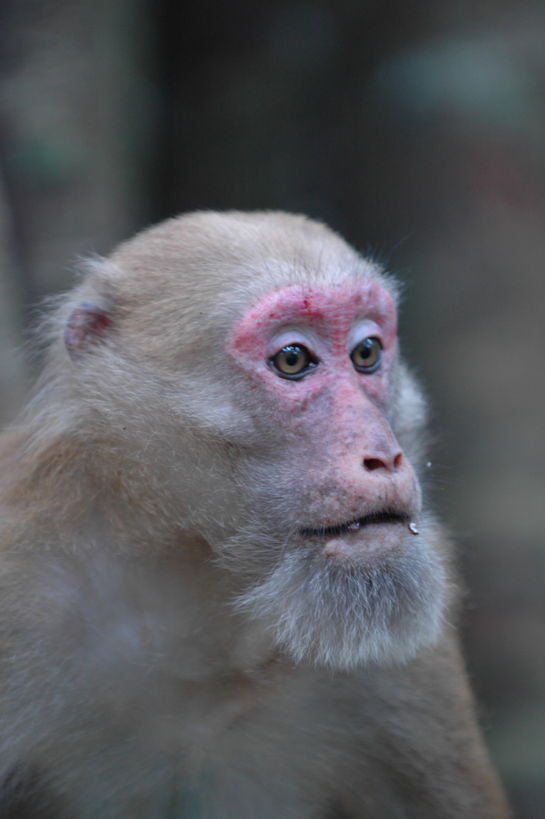monkey: (1, 181, 520, 819)
